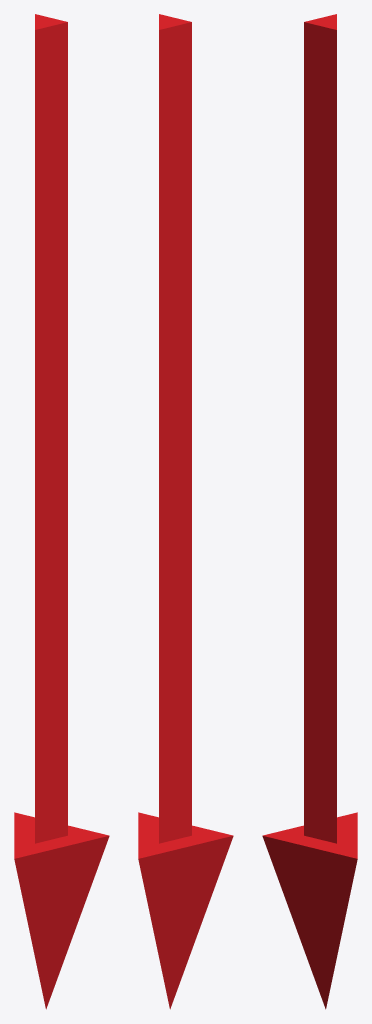
File: arrowFwd.obj
3 renders of one model, left to right at view 1: azimuth 90°, elevation 25°; view 2: azimuth 210°, elevation 25°; view 3: azimuth 270°, elevation 25°, orthographic.
Parts seen in each view (by area): view 1: Cylinder; view 2: Cylinder; view 3: Cylinder.
Part boxes in pixels (x1,y1,x2,y2): Cylinder: [14, 14, 109, 1009]; Cylinder: [138, 14, 233, 1009]; Cylinder: [262, 14, 357, 1009].
Size of the model in its own units: 0.1719 by 1.7 by 0.1489.
1 material, 1 textured.
